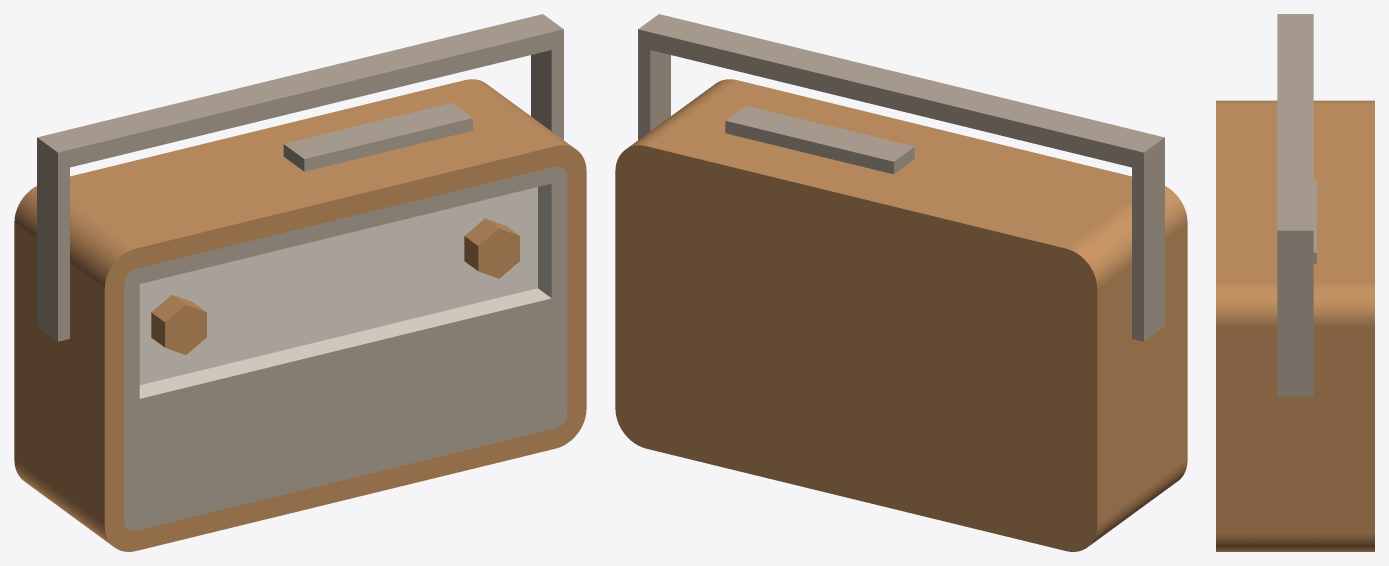
File: kitRadio.glb
3 renders of one model, left to right at view 1: azimuth 30°, elevation 25°; view 2: azimuth 150°, elevation 25°; view 3: azimuth 270°, elevation 25°, orthographic. The views are drawn at different scales.
Parts seen in each view (by area): view 1: kitRadio_metalMedium, kitRadio_wood, kitRadio_metal; view 2: kitRadio_wood, kitRadio_metalMedium; view 3: kitRadio_wood, kitRadio_metalMedium.
Part boxes in pixels (x1,y1,x2,y2): kitRadio_metalMedium: (37,14,567,530); kitRadio_wood: (14,79,586,551); kitRadio_metal: (139,183,551,398); kitRadio_wood: (615,79,1187,551); kitRadio_metalMedium: (638,14,1164,341); kitRadio_wood: (1216,100,1374,551); kitRadio_metalMedium: (1277,14,1316,396).
Size of the model in its own units: 0.34 by 0.2463 by 0.1052.
